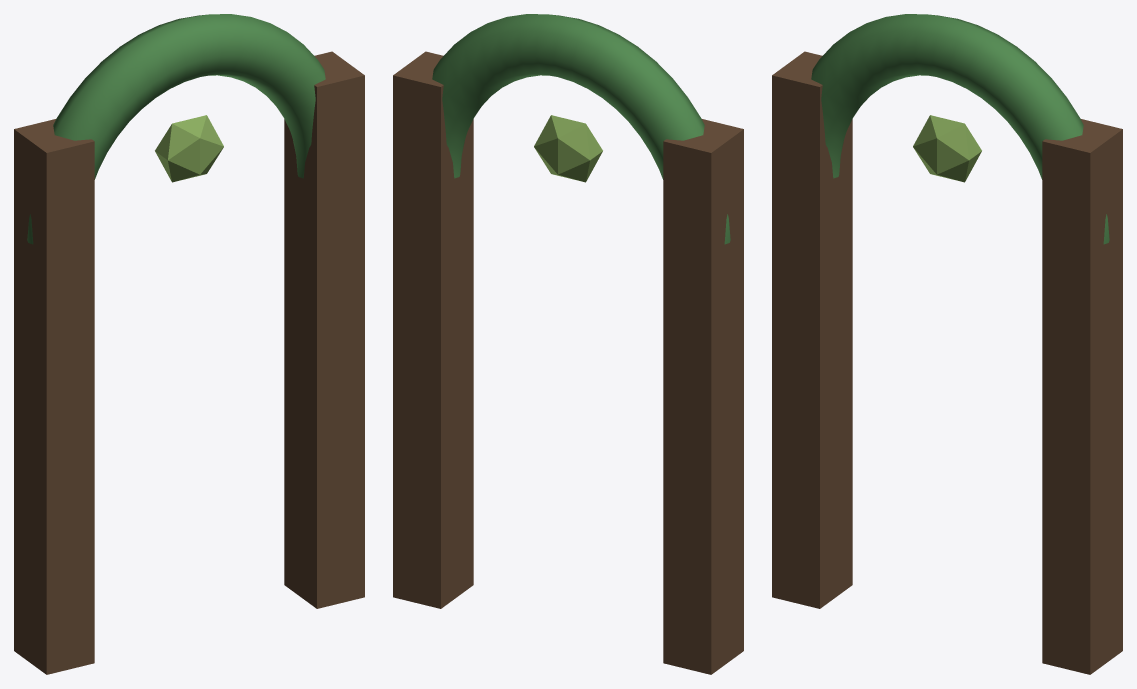
The model's file is rune_pillar_pair.glb.
The picture shows the model from 3 angles, left to right: view 1: azimuth 30°, elevation 25°; view 2: azimuth 150°, elevation 25°; view 3: azimuth 330°, elevation 25°; orthographic projection.
Parts seen in each view (by area): view 1: pillar_-1, pillar_1, arch, keystone; view 2: pillar_-1, pillar_1, arch, keystone; view 3: pillar_1, pillar_-1, arch, keystone.
Boxes of the visible parts, <box> form: pillar_-1: <box>14,119,94,674</box>; pillar_1: <box>284,51,364,608</box>; arch: <box>27,14,325,244</box>; keystone: <box>155,115,223,182</box>; pillar_-1: <box>663,119,743,674</box>; pillar_1: <box>393,51,473,608</box>; arch: <box>432,14,730,244</box>; keystone: <box>534,115,602,182</box>; pillar_1: <box>1042,119,1122,674</box>; pillar_-1: <box>772,51,852,608</box>; arch: <box>811,14,1109,244</box>; keystone: <box>913,115,981,182</box>.
Size of what is drawn, in the model's own units: 3.7 by 6.64 by 0.65.
